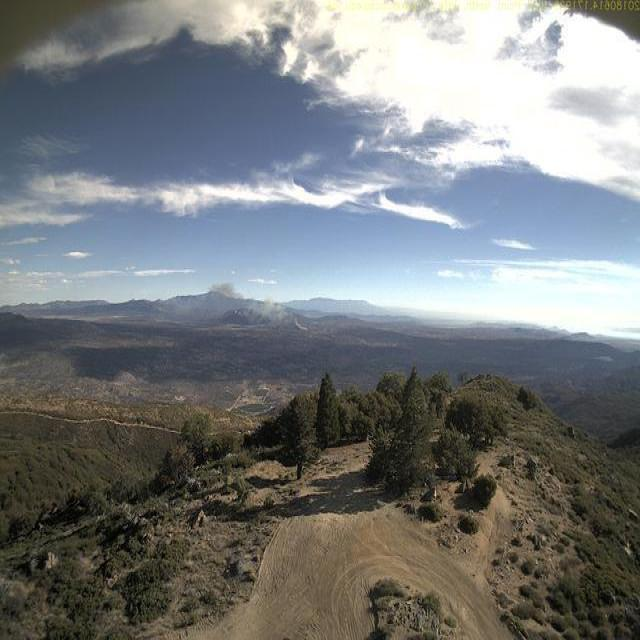Smoke: (200, 277, 309, 335)
